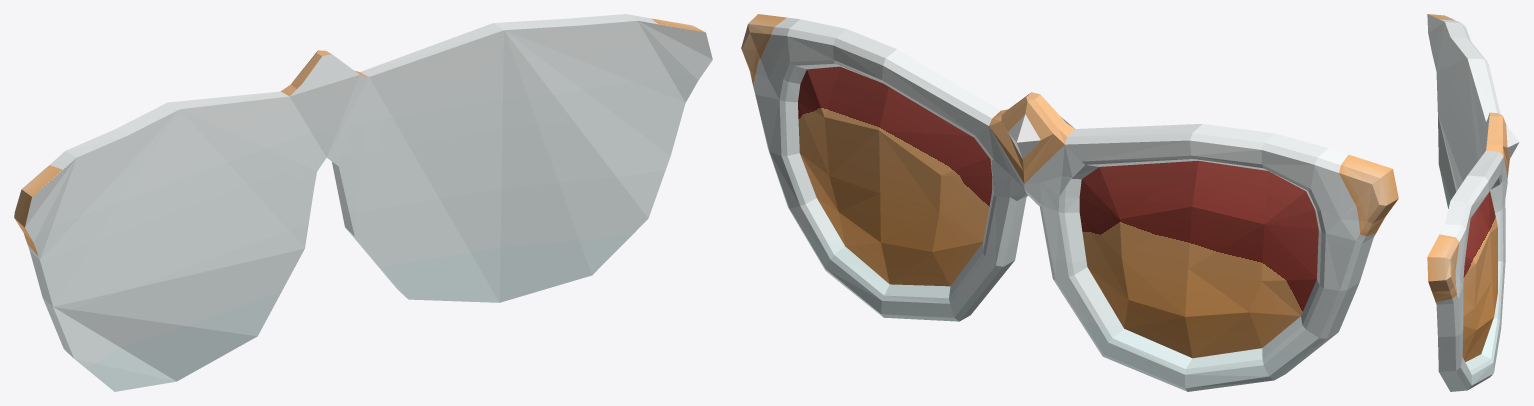
The model's file is CharSkyKid_Mask_AP07Sunglasses.glb.
3 views of the same model, side by side, from view 1: azimuth 30°, elevation 25°; view 2: azimuth 150°, elevation 25°; view 3: azimuth 270°, elevation 25° (orthographic). The views are drawn at different scales.
Parts seen in each view (by area): view 1: CharSkyKid_Mask_AP07Sunglasses; view 2: CharSkyKid_Mask_AP07Sunglasses; view 3: CharSkyKid_Mask_AP07Sunglasses.
Boxes of the visible parts, <box> form: CharSkyKid_Mask_AP07Sunglasses: <box>14,14,712,391</box>; CharSkyKid_Mask_AP07Sunglasses: <box>741,14,1398,391</box>; CharSkyKid_Mask_AP07Sunglasses: <box>1427,14,1519,391</box>.
Size of the model in its own units: 2.72 by 1.05 by 0.4267.
1 material, 1 textured.
